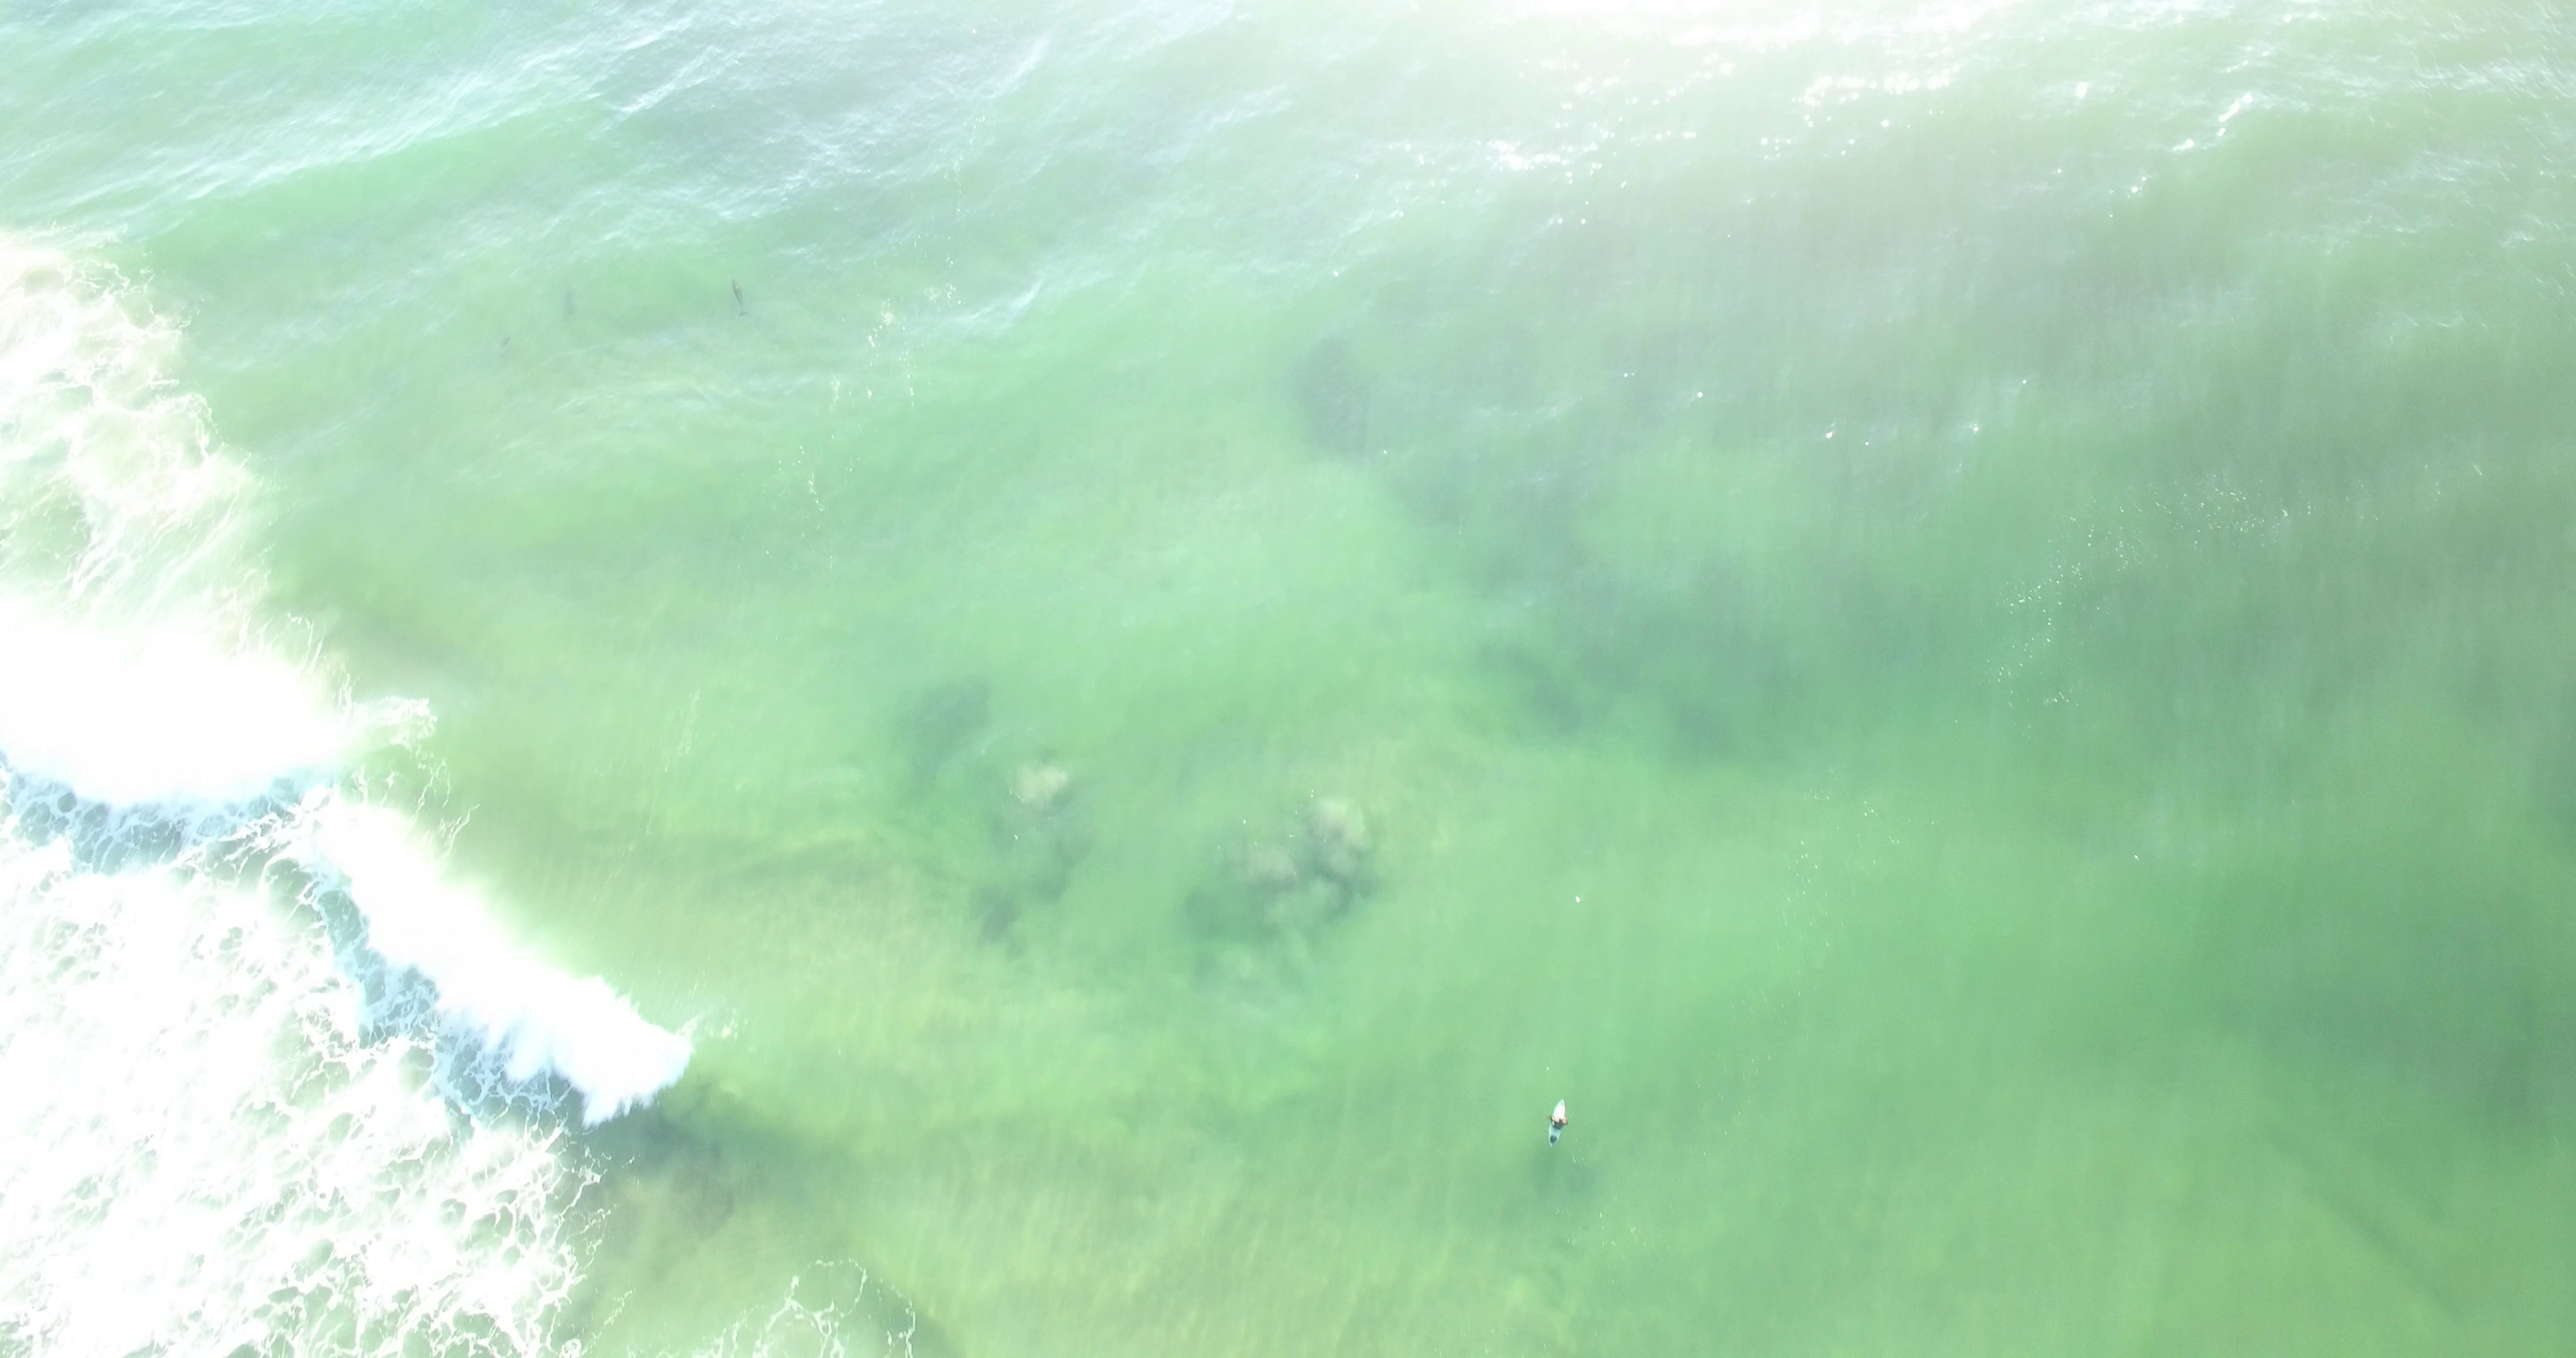dolphin: (727, 276, 750, 320), (562, 278, 576, 324)
surfer: (1544, 1097, 1569, 1145)
